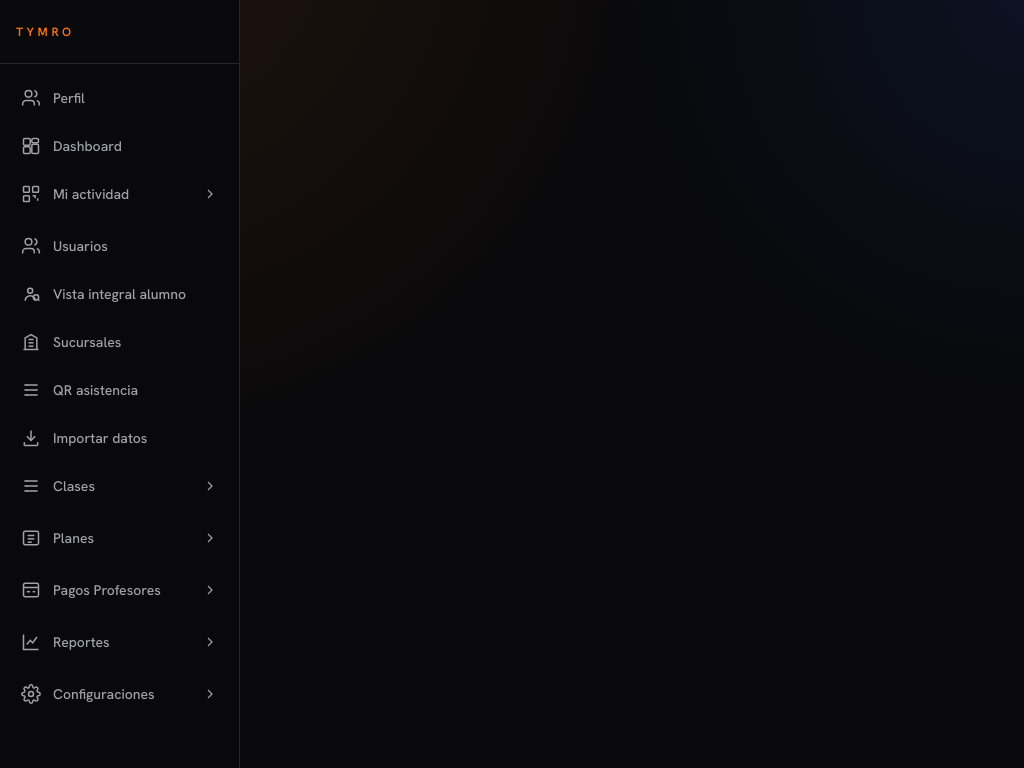
it: Sidebar — menú de Reportes (gym_admin) › ya no ofrece "Pagos manuales", y sí ofrece los otros cuatro reportes
The image size is (1024, 768).
Step 1. Click the button "Reportes" → (120, 642), box [8,620,231,664]
(page scrolled)
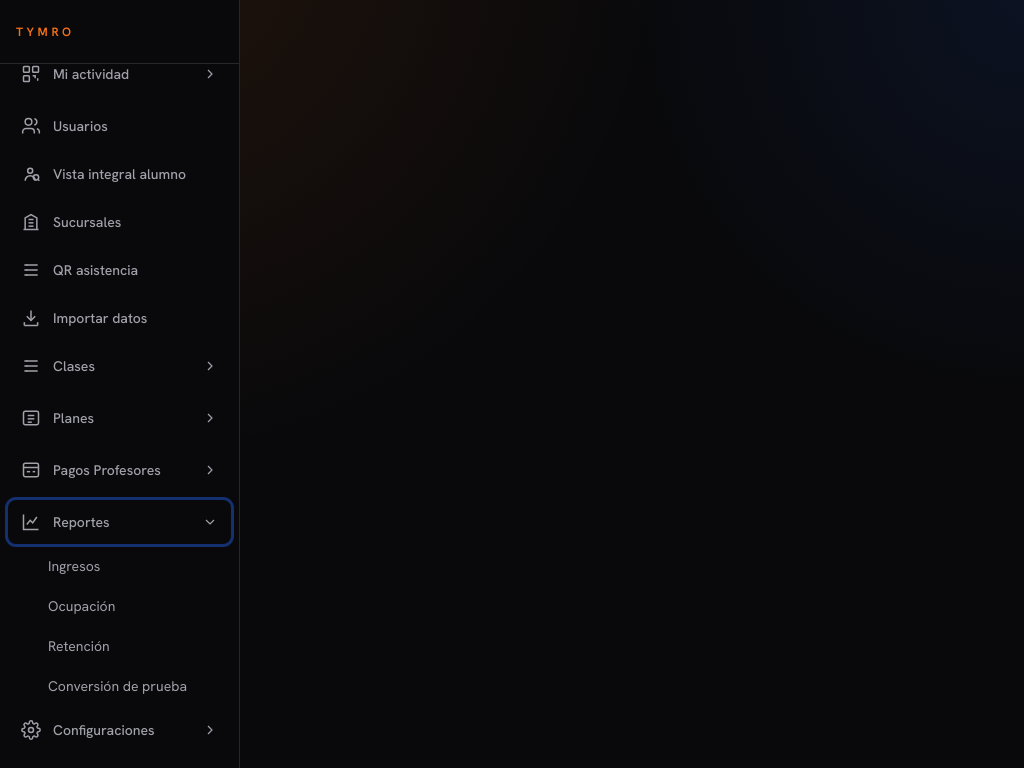
Check: the link "Ingresos" is shown, box [48,557,100,575]
Check: the link "Ocupación" is shown, box [48,597,115,615]
Check: the link "Retención" is shown, box [48,637,110,655]
